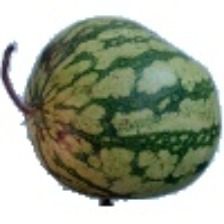watermelon: (5, 5, 198, 174)
